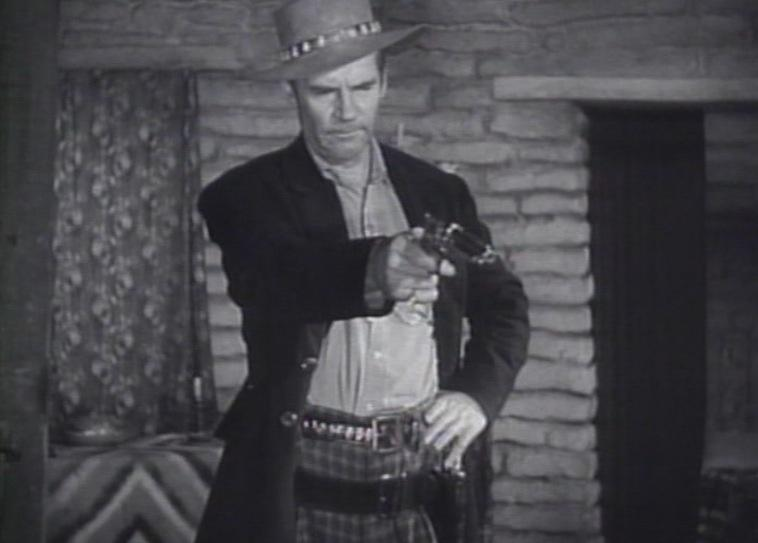gun: (373, 205, 501, 302)
